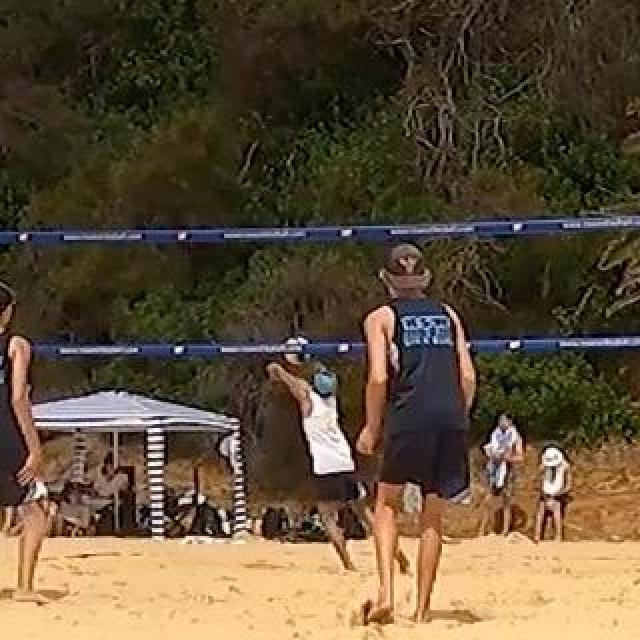volleyball: (282, 335, 312, 363)
